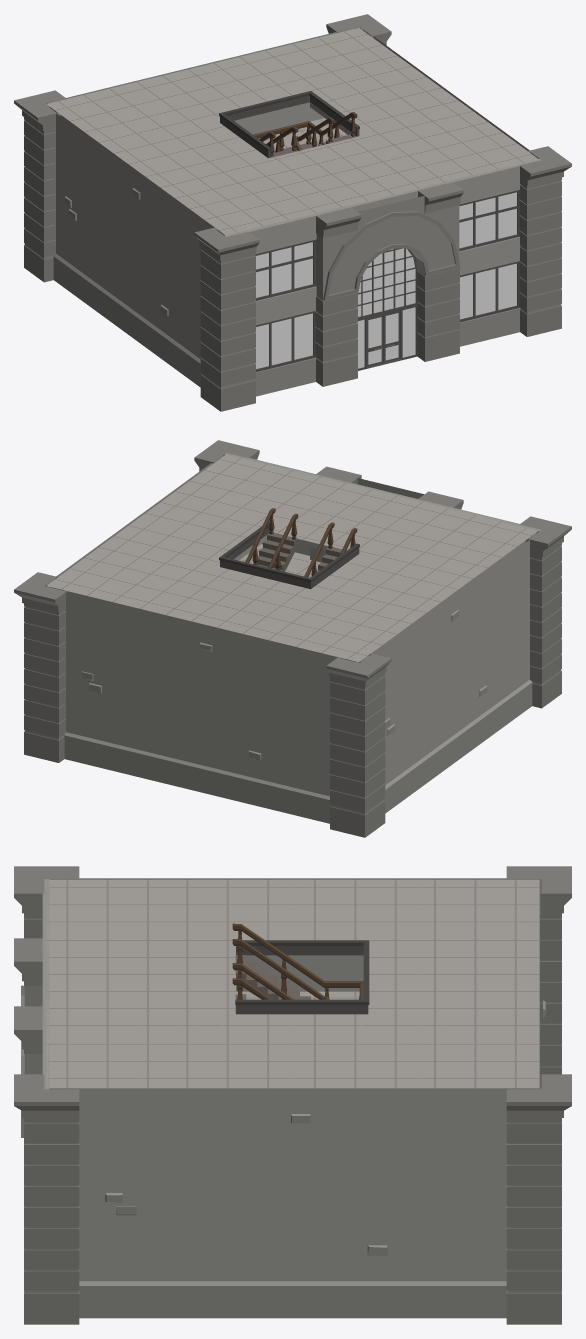
The model's file is SM_Bldg_City_High-Rise_03_Base.fbx.
3 renders of one model, top to bottom at view 1: azimuth 30°, elevation 25°; view 2: azimuth 150°, elevation 25°; view 3: azimuth 270°, elevation 25°, orthographic. The views are drawn at different scales.
Visible parts, largest first — view 1: SM_Bldg_City_High-Rise_03_Base, SM_Bldg_City_High-Rise_03_Base_Glass; view 2: SM_Bldg_City_High-Rise_03_Base; view 3: SM_Bldg_City_High-Rise_03_Base.
Boxes of the visible parts, x1=… form: SM_Bldg_City_High-Rise_03_Base: x1=14, y1=14, x2=571, y2=411; SM_Bldg_City_High-Rise_03_Base_Glass: x1=255, y1=192, x2=516, y2=368; SM_Bldg_City_High-Rise_03_Base: x1=14, y1=440, x2=571, y2=837; SM_Bldg_City_High-Rise_03_Base: x1=14, y1=866, x2=571, y2=1324.
Bounding box in the file's own units: 1560 × 800 × 1560.
